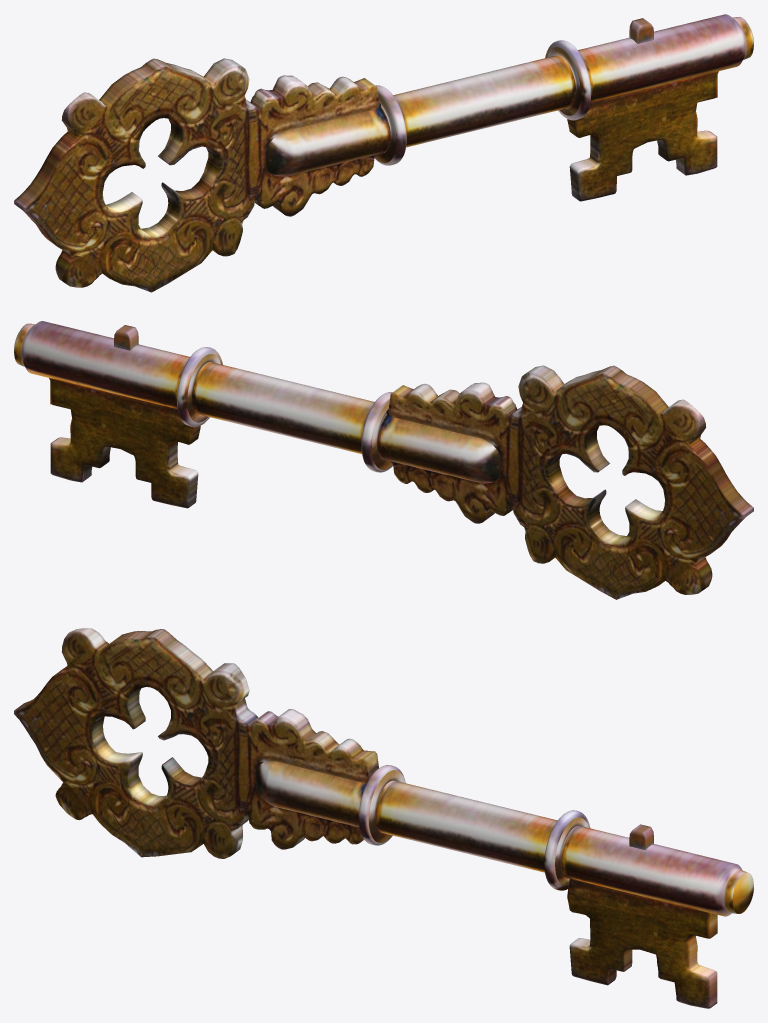
File: key2.glb
3 views of the same model, one above another, from view 1: azimuth 30°, elevation 25°; view 2: azimuth 150°, elevation 25°; view 3: azimuth 330°, elevation 25° (orthographic).
Parts seen in each view (by area): view 1: Material-material, Circle_001; view 2: Material-material, Circle_001; view 3: Material-material, Circle_001.
Boxes of the visible parts, <box> form: Material-material: <box>14,18,718,292</box>; Circle_001: <box>265,14,753,176</box>; Material-material: <box>49,325,753,599</box>; Circle_001: <box>14,321,501,483</box>; Material-material: <box>14,628,717,1008</box>; Circle_001: <box>255,761,753,916</box>.
Bounding box in the file's own units: 7.53 × 2.36 × 0.7318.
Materials: 2 (2 with a texture image).
